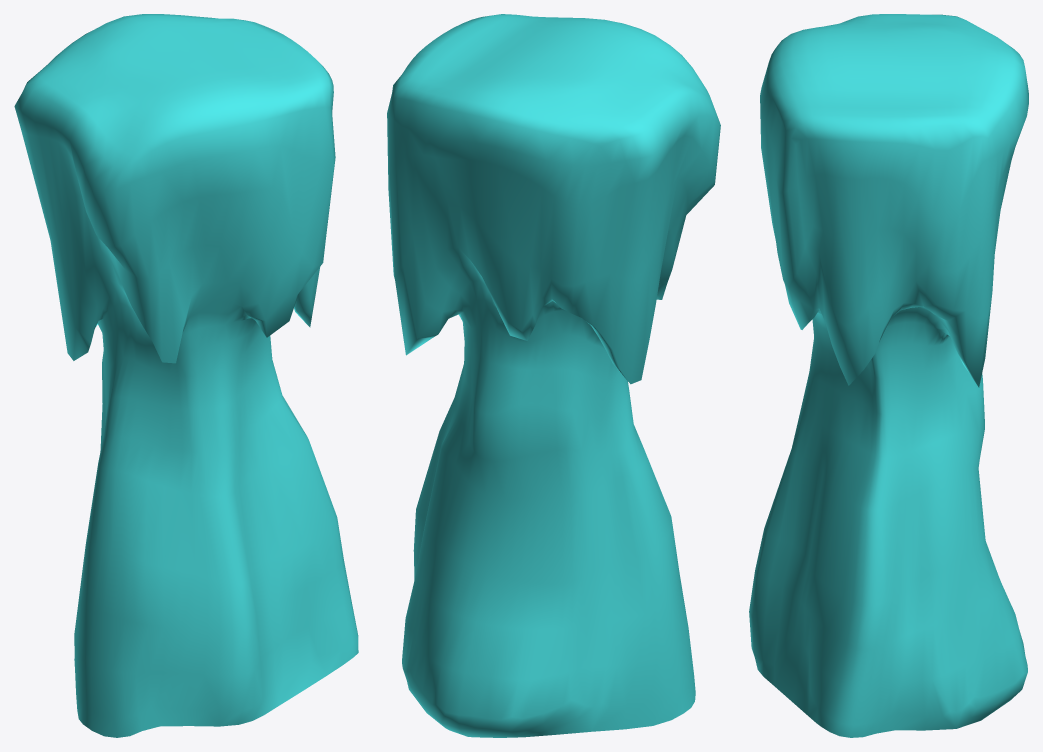
The model's file is Ice pillar.fbx.
3 views of the same model, side by side, from view 1: azimuth 30°, elevation 25°; view 2: azimuth 150°, elevation 25°; view 3: azimuth 270°, elevation 25° (orthographic). The views are drawn at different scales.
Visible parts, largest first — view 1: Pilar_de_hielo; view 2: Pilar_de_hielo; view 3: Pilar_de_hielo.
Part boxes in pixels (x1=…): Pilar_de_hielo: x1=14, y1=14, x2=358, y2=737; Pilar_de_hielo: x1=387, y1=14, x2=720, y2=737; Pilar_de_hielo: x1=749, y1=14, x2=1028, y2=737.
Size of the model in its own units: 5.36 by 11.39 by 4.55.
